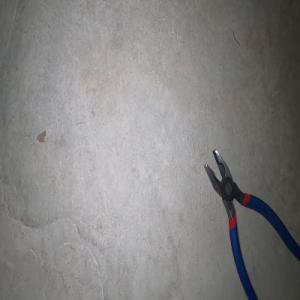Pliers: (203, 148, 300, 300)
